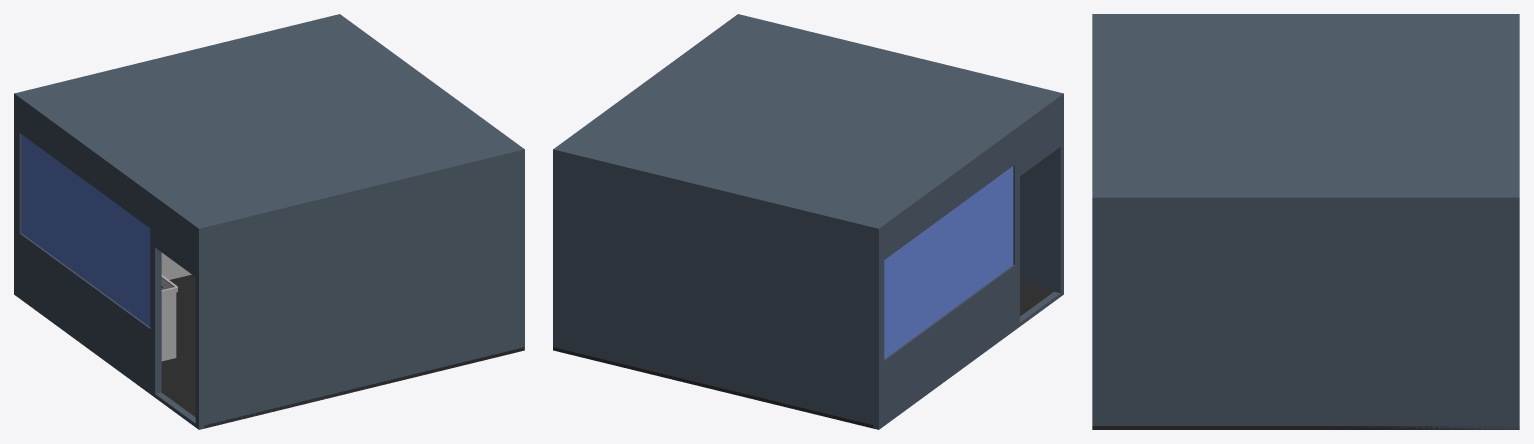
Rendered from room1.fbx.
The picture shows the model from 3 angles, left to right: view 1: azimuth 30°, elevation 25°; view 2: azimuth 150°, elevation 25°; view 3: azimuth 270°, elevation 25°; orthographic projection. The views are drawn at different scales.
Visible parts, largest first — view 1: room1_floor, room1_front_wall, window, ControlPanel1; view 2: room1_floor, room1_front_wall, window; view 3: room1_floor, room1_front_wall.
Boxes of the visible parts, <box> form: room1_floor: <box>20,14,524,428</box>; room1_front_wall: <box>14,92,204,429</box>; window: <box>21,134,150,326</box>; ControlPanel1: <box>161,274,177,361</box>; room1_floor: <box>553,14,1056,428</box>; room1_front_wall: <box>872,92,1063,429</box>; window: <box>884,166,1013,358</box>; room1_floor: <box>1092,17,1519,429</box>; room1_front_wall: <box>1092,14,1519,17</box>.
Bounding box in the file's own units: 500 × 509 × 300.
